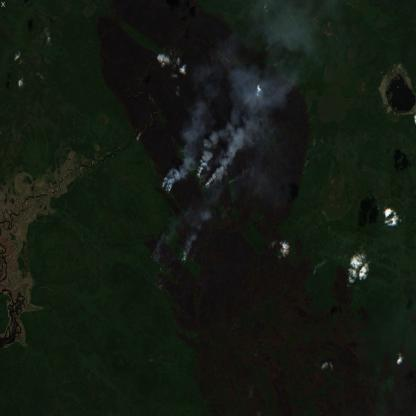fire: (194, 158, 221, 192), (141, 243, 165, 279), (154, 172, 178, 200), (179, 248, 189, 265), (310, 262, 318, 276)
